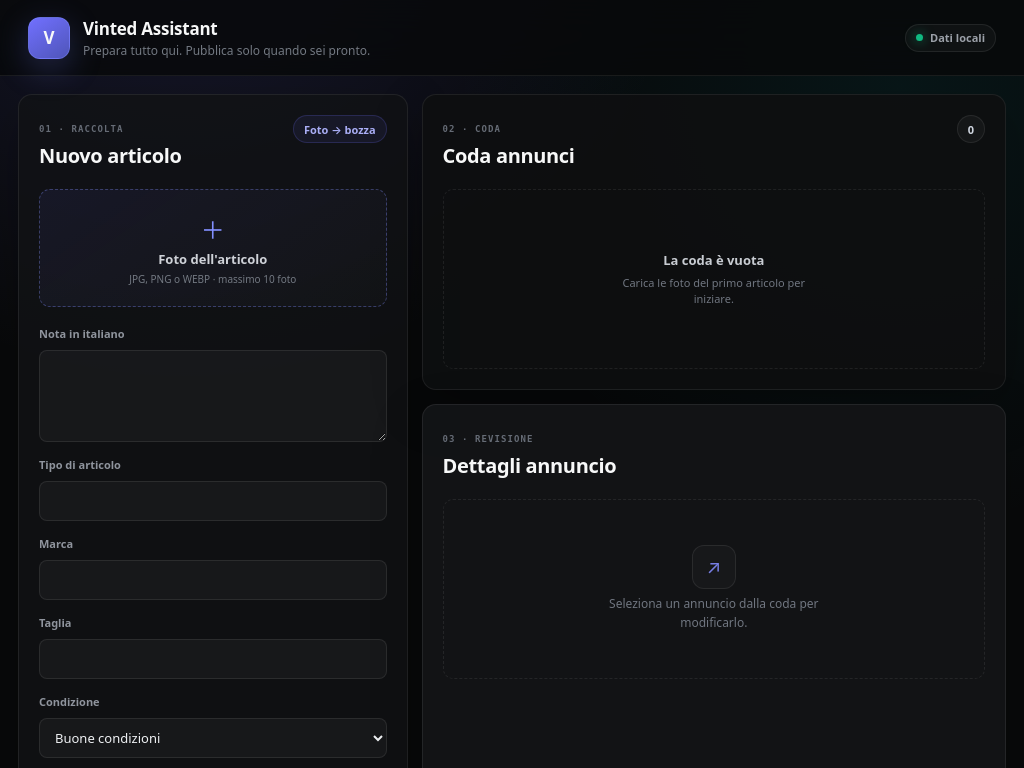
Scenario: Vinted Assistant dashboard › requires at least one real photo before creating a draft
The width and height of the screenshot is (1024, 768).
Type "Articolo in ottime condizioni." into the text box labelled "Nota in italiano" at coordinates (213, 396), box [39,350,387,442]
(page scrolled)
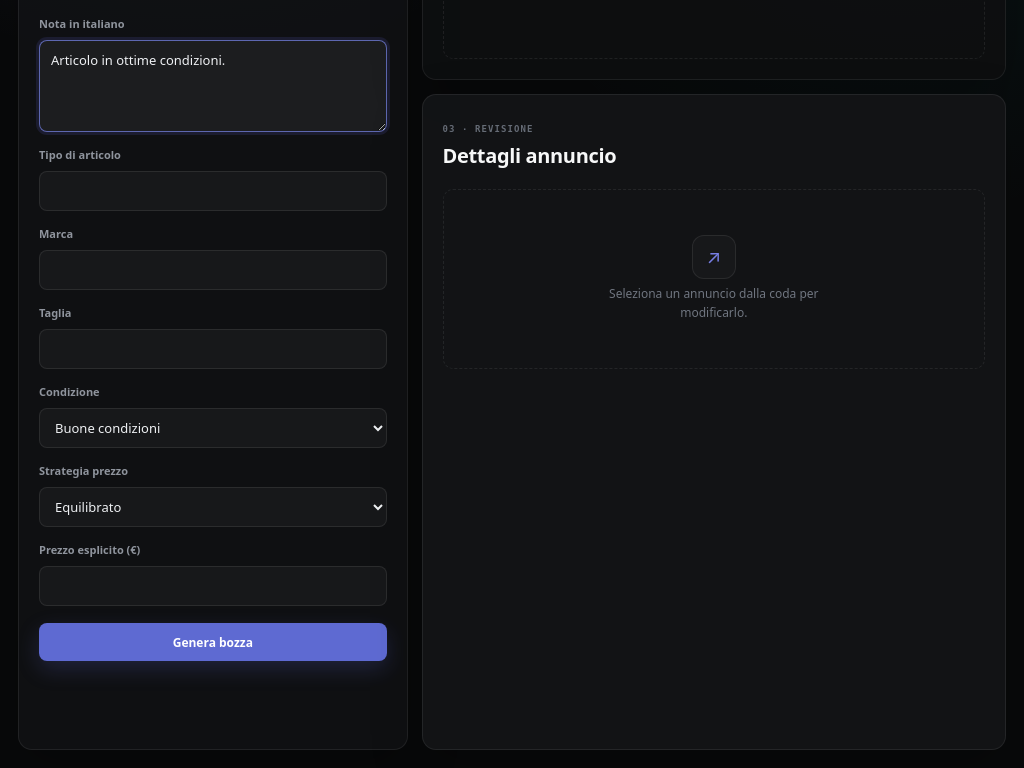
Click the button "Genera bozza" at coordinates (213, 642), box [39,623,387,661]
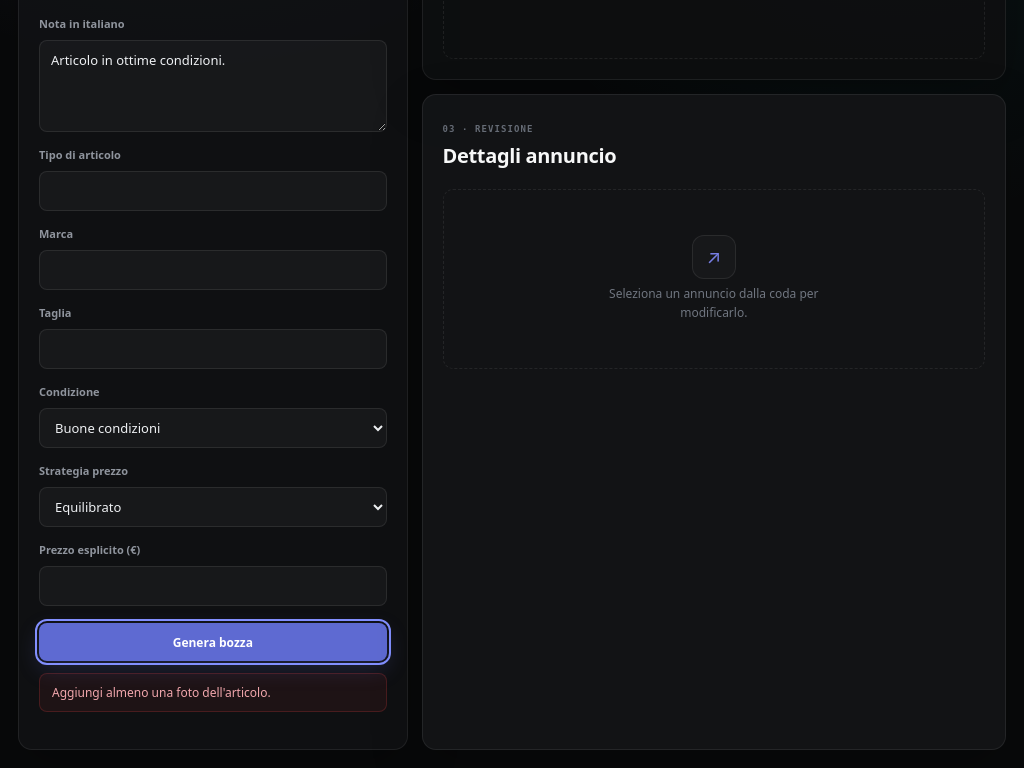
Now the message reads "Aggiungi almeno una foto dell'articolo.", box [52,684,271,701]
